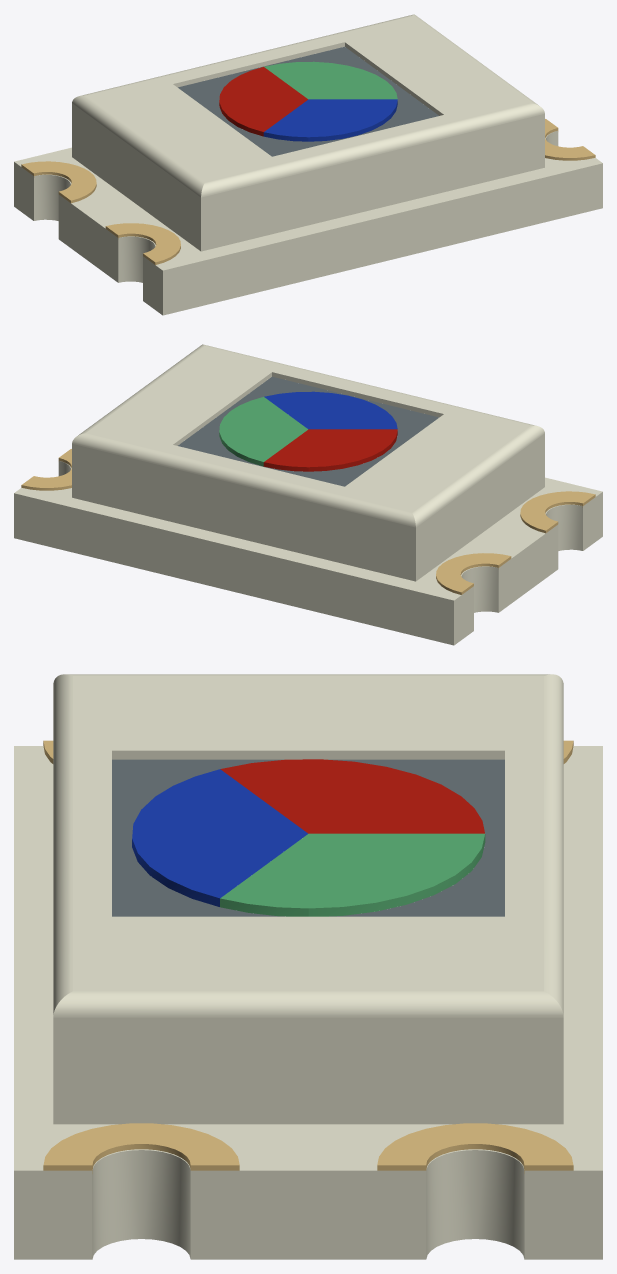
Rendered from kc-kingbright_kps-5130.glb.
3 views of the same model, one above another, from view 1: azimuth 30°, elevation 25°; view 2: azimuth 150°, elevation 25°; view 3: azimuth 270°, elevation 25° (orthographic). The views are drawn at different scales.
Parts seen in each view (by area): view 1: 0.75_0.75_0.6666666666666666_0, 0.16666666666666666_0.16666666666666666_0.16666666666666666_, 0_0.08333333333333333_0.4166666666666667_0, 0.75_0.5_0.25_0.9, 0.4166666666666667_0_0_0, 0.08333333333333333_0.4166666666666667_0.16666666666666666_0; view 2: 0.75_0.75_0.6666666666666666_0, 0.16666666666666666_0.16666666666666666_0.16666666666666666_, 0.4166666666666667_0_0_0, 0.75_0.5_0.25_0.9, 0.08333333333333333_0.4166666666666667_0.16666666666666666_0, 0_0.08333333333333333_0.4166666666666667_0; view 3: 0.75_0.75_0.6666666666666666_0, 0.16666666666666666_0.16666666666666666_0.16666666666666666_, 0.08333333333333333_0.4166666666666667_0.16666666666666666_0, 0_0.08333333333333333_0.4166666666666667_0, 0.4166666666666667_0_0_0, 0.75_0.5_0.25_0.9.
Part boxes in pixels (x1=…): 0.75_0.75_0.6666666666666666_0: x1=14, y1=14, x2=602, y2=315; 0.16666666666666666_0.16666666666666666_0.16666666666666666_: x1=178, y1=46, x2=438, y2=156; 0_0.08333333333333333_0.4166666666666667_0: x1=263, y1=99, x2=397, y2=141; 0.75_0.5_0.25_0.9: x1=21, y1=119, x2=595, y2=264; 0.4166666666666667_0_0_0: x1=219, y1=67, x2=307, y2=136; 0.08333333333333333_0.4166666666666667_0.16666666666666666_0: x1=264, y1=61, x2=397, y2=99; 0.75_0.75_0.6666666666666666_0: x1=14, y1=344, x2=602, y2=645; 0.16666666666666666_0.16666666666666666_0.16666666666666666_: x1=178, y1=376, x2=438, y2=486; 0.4166666666666667_0_0_0: x1=263, y1=429, x2=397, y2=471; 0.75_0.5_0.25_0.9: x1=21, y1=449, x2=595, y2=594; 0.08333333333333333_0.4166666666666667_0.16666666666666666_0: x1=219, y1=397, x2=307, y2=466; 0_0.08333333333333333_0.4166666666666667_0: x1=264, y1=391, x2=397, y2=429; 0.75_0.75_0.6666666666666666_0: x1=14, y1=674, x2=602, y2=1259; 0.16666666666666666_0.16666666666666666_0.16666666666666666_: x1=112, y1=759, x2=504, y2=916; 0.08333333333333333_0.4166666666666667_0.16666666666666666_0: x1=220, y1=833, x2=485, y2=916; 0_0.08333333333333333_0.4166666666666667_0: x1=132, y1=769, x2=307, y2=906; 0.4166666666666667_0_0_0: x1=220, y1=759, x2=484, y2=833; 0.75_0.5_0.25_0.9: x1=43, y1=740, x2=573, y2=1173.
Bounding box in the file's own units: 0.512 × 0.12 × 0.3.
